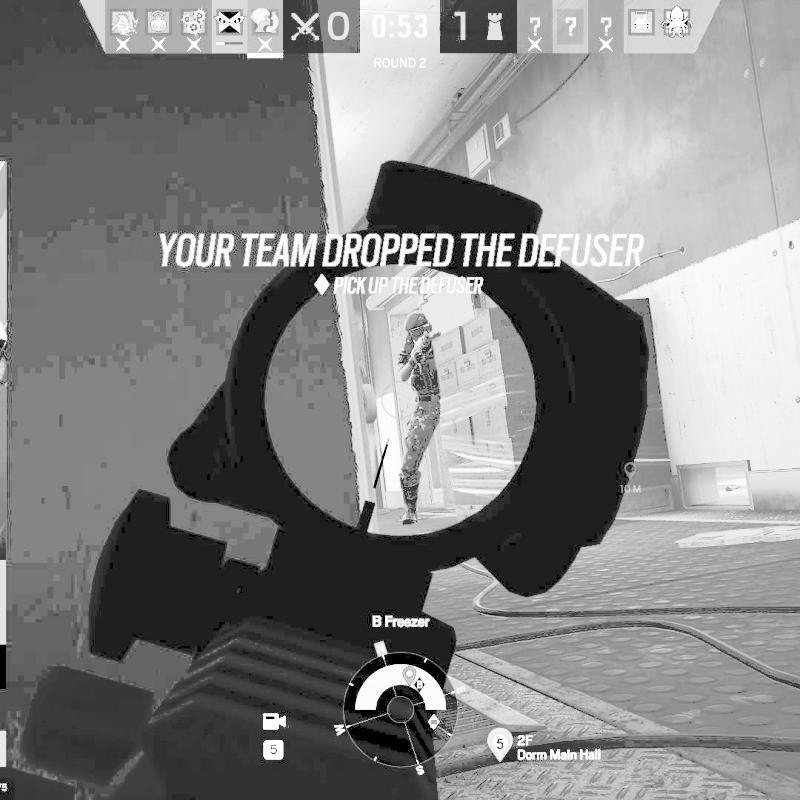Character: (396, 309, 444, 527)
Head: (405, 312, 434, 342)
